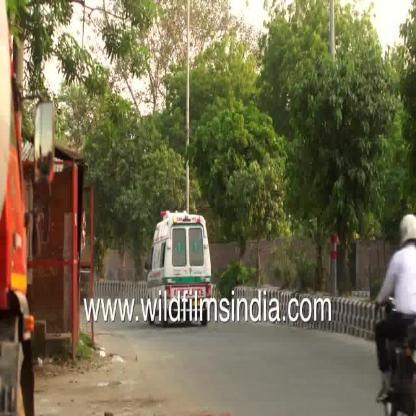priority: (145, 204, 216, 294)
